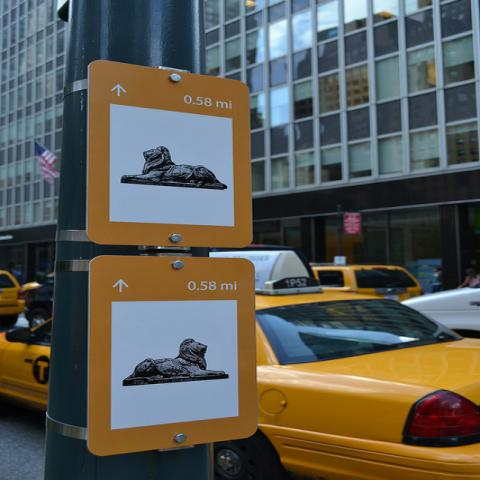car: (1, 291, 479, 474), (407, 285, 479, 338), (312, 266, 424, 300), (0, 270, 40, 327)
